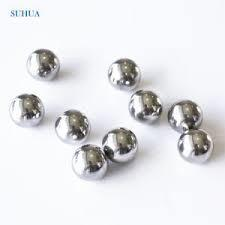steelball: (7, 90, 45, 130), (69, 142, 106, 183), (51, 106, 90, 144), (176, 128, 214, 165), (23, 46, 60, 82), (105, 56, 141, 91)
